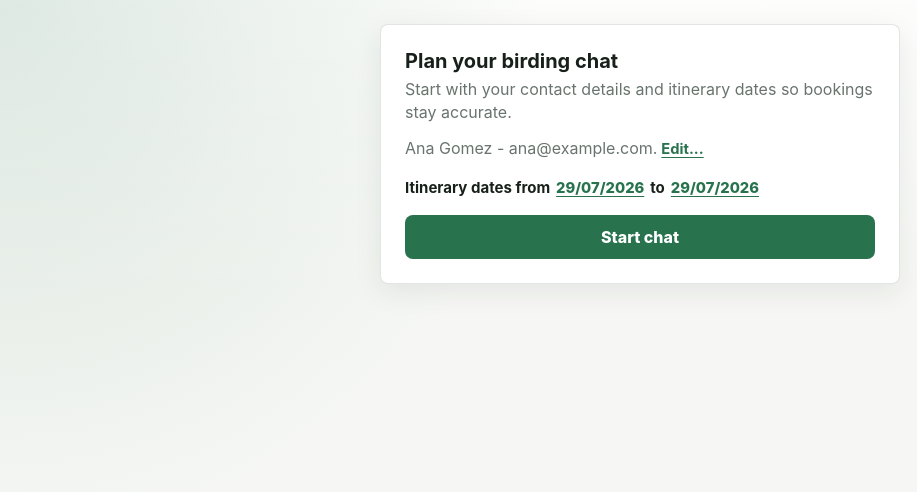
Test: CustomerContextForm › reveals prefilled reservation contact fields from the link-style action
Click the button "Edit..." at x=683, y=150, box [661,139,704,161]
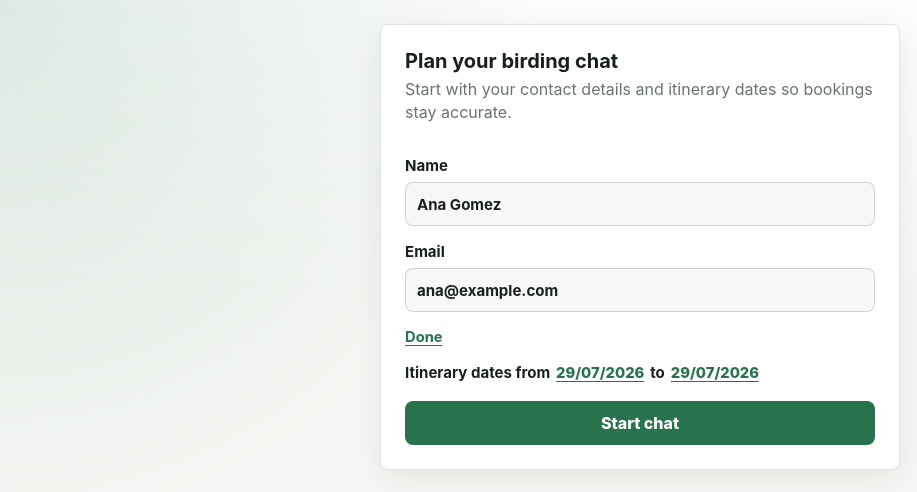
Result: the field labelled "Name" holds "Ana Gomez" at [405,182,875,226]
Result: the field labelled "Email" holds "ana@example.com" at [405,268,875,312]
